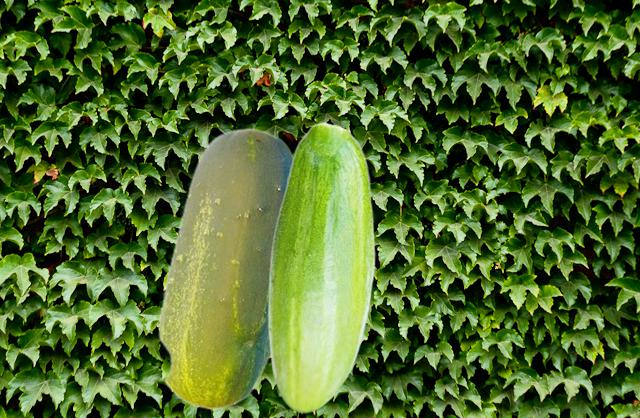cucumber: (157, 127, 293, 409), (267, 122, 374, 412)
